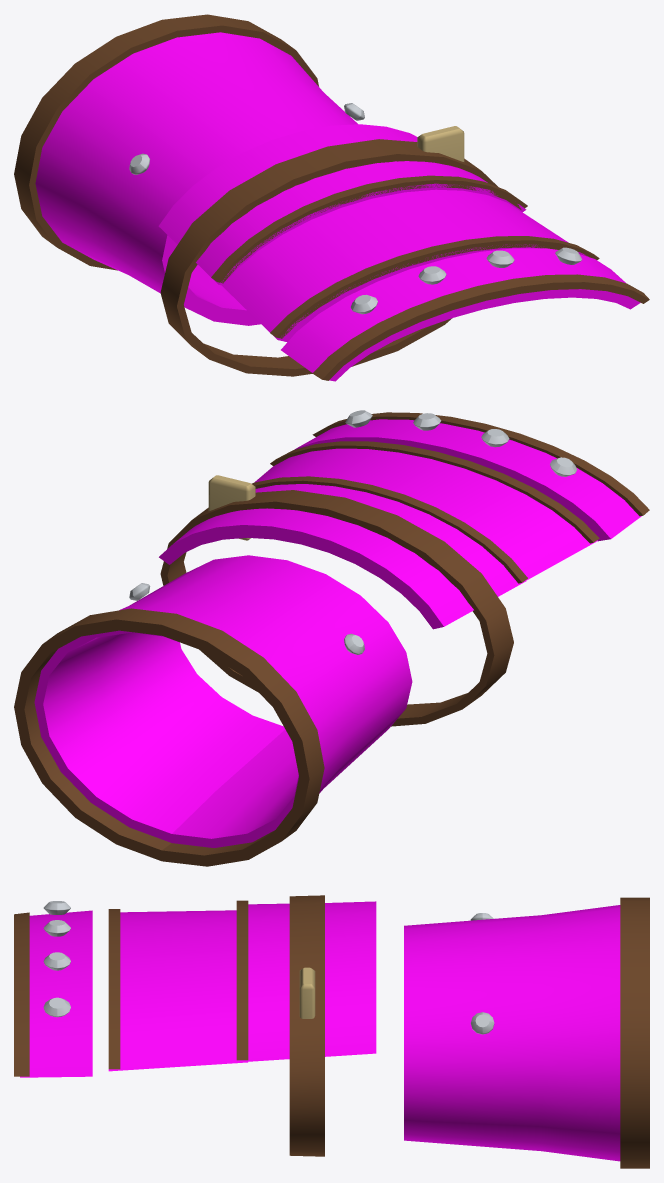
Rendered from gantelet_armure1.glb.
The picture shows the model from 3 angles, top to bottom: view 1: azimuth 30°, elevation 25°; view 2: azimuth 150°, elevation 25°; view 3: azimuth 270°, elevation 25°; orthographic projection.
Visible parts, largest first — view 1: main__gantelet_teinte, manchette__gantelet_teinte, main__gantelet_sac_cuir, manchette__gantelet_sac_cuir, main__gantelet_rivet, main__gantelet_boucle, manchette__gantelet_rivet; view 2: manchette__gantelet_teinte, main__gantelet_teinte, main__gantelet_sac_cuir, manchette__gantelet_sac_cuir, main__gantelet_rivet, main__gantelet_boucle; view 3: manchette__gantelet_teinte, main__gantelet_teinte, main__gantelet_sac_cuir, manchette__gantelet_sac_cuir, main__gantelet_rivet, main__gantelet_boucle, manchette__gantelet_rivet.
Part boxes in pixels (x1,y1,x2,y2): main__gantelet_teinte: (158,124,640,381); manchette__gantelet_teinte: (35,32,357,325); main__gantelet_sac_cuir: (160,139,649,380); manchette__gantelet_sac_cuir: (14,14,318,270); main__gantelet_rivet: (350,247,582,314); main__gantelet_boucle: (417,126,464,161); manchette__gantelet_rivet: (129,103,364,174); manchette__gantelet_teinte: (34,555,412,847); main__gantelet_teinte: (159,419,641,629); main__gantelet_sac_cuir: (160,412,649,726); manchette__gantelet_sac_cuir: (14,608,324,866); main__gantelet_rivet: (345,410,576,476); main__gantelet_boucle: (208,475,255,540); manchette__gantelet_teinte: (404,905,620,1161); main__gantelet_teinte: (20,901,376,1077); main__gantelet_sac_cuir: (14,895,324,1156); manchette__gantelet_sac_cuir: (620,897,649,1168); main__gantelet_rivet: (43,901,70,1017); main__gantelet_boucle: (299,967,315,1018); manchette__gantelet_rivet: (470,913,494,1034).
Bounding box in the file's own units: 0.097 × 0.065 × 0.1615.
